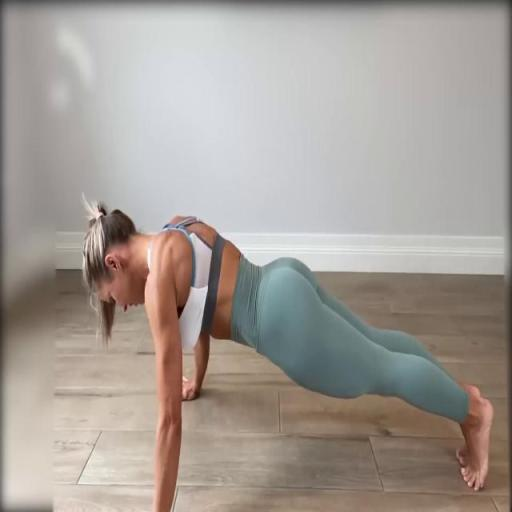Normal_BrenchPress: (80, 199, 495, 507)
